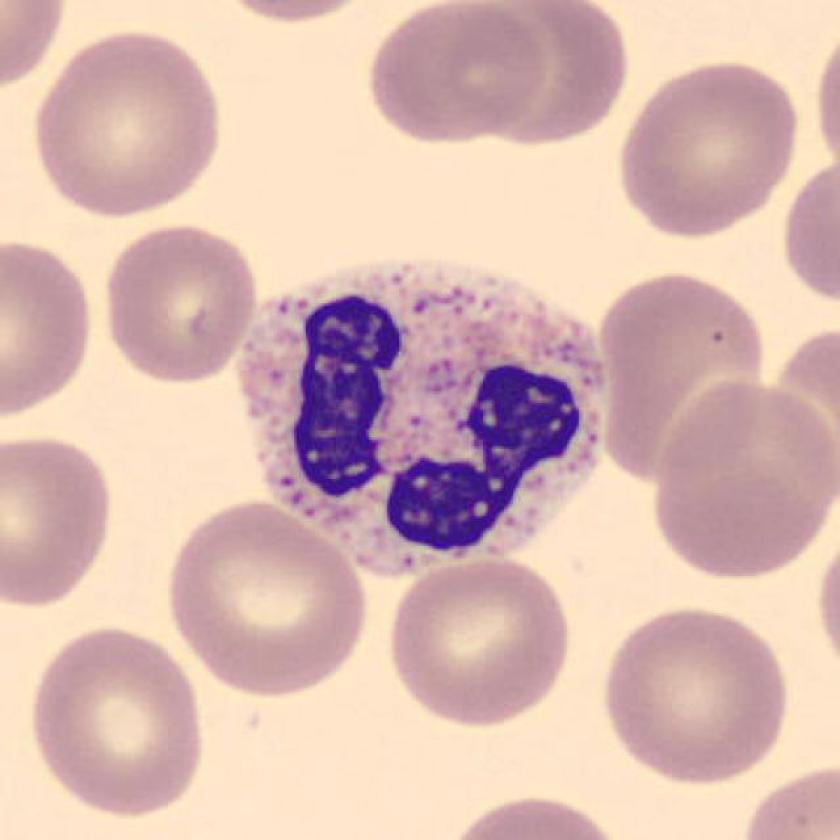neutrophil: (239, 266, 610, 579)
